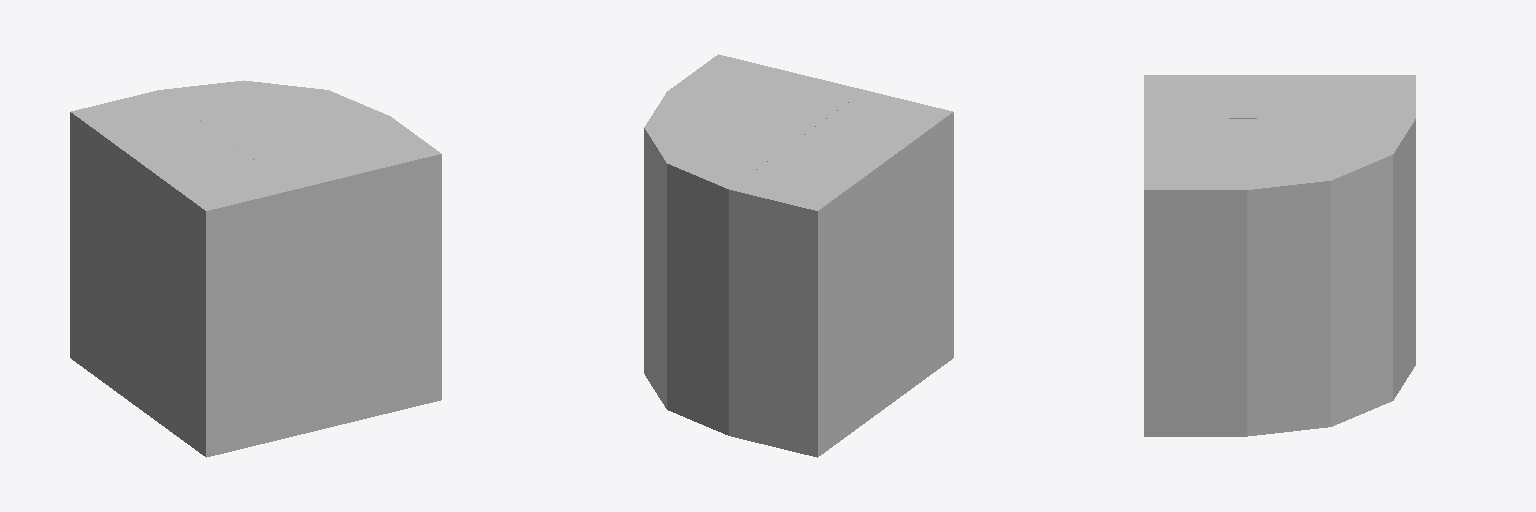
Rendered from sandstone_bridge_back_left_muddy_bottom.obj.
3 views of the same model, side by side, from view 1: azimuth 30°, elevation 25°; view 2: azimuth 150°, elevation 25°; view 3: azimuth 270°, elevation 25° (orthographic).
Parts seen in each view (by area): view 1: Back_Left; view 2: Back_Left; view 3: Back_Left.
Boxes of the visible parts, x1=… form: Back_Left: x1=70, y1=80, x2=441, y2=457; Back_Left: x1=644, y1=54, x2=953, y2=457; Back_Left: x1=1144, y1=75, x2=1415, y2=436.
Size of the model in its own units: 1 by 1 by 1.